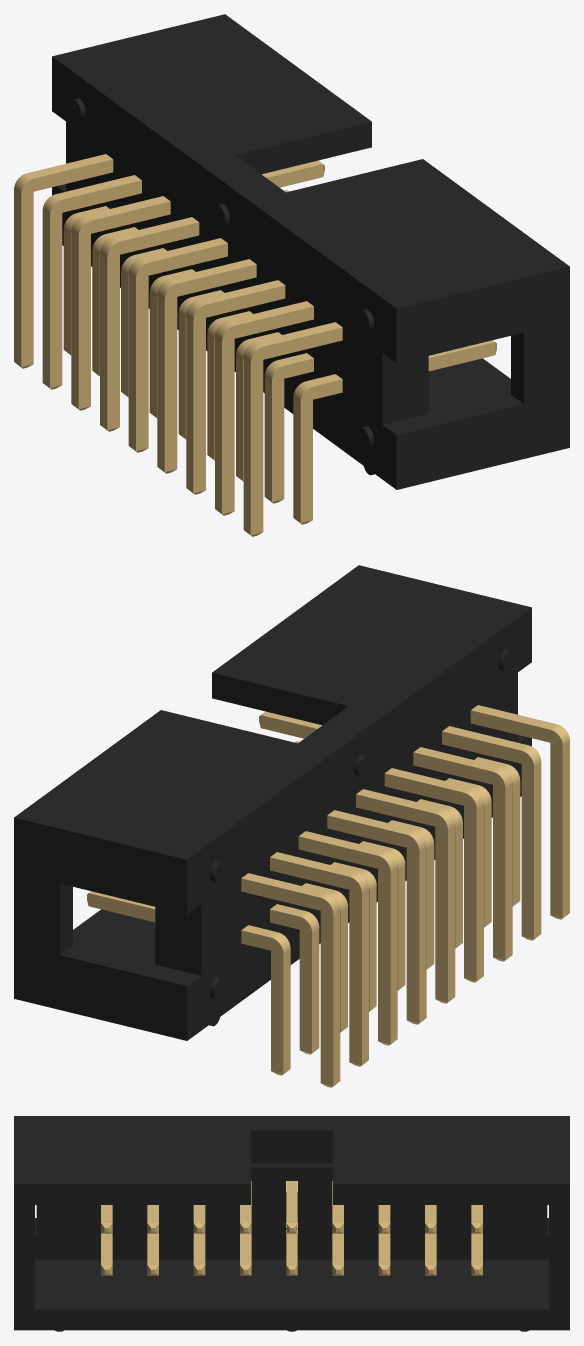
File: kc-idc-header_2x09_p2.54mm_horizontal.glb
The picture shows the model from 3 angles, top to bottom: view 1: azimuth 30°, elevation 25°; view 2: azimuth 150°, elevation 25°; view 3: azimuth 270°, elevation 25°; orthographic projection. The views are drawn at different scales.
Visible parts, largest first — view 1: 0_0_0_0, 0.75_0.5_0.25_0.9; view 2: 0_0_0_0, 0.75_0.5_0.25_0.9; view 3: 0_0_0_0, 0.75_0.5_0.25_0.9.
Boxes of the visible parts, x1,y1,x2,y2 form: 0_0_0_0: (52,14,569,489); 0.75_0.5_0.25_0.9: (14,154,496,536); 0_0_0_0: (14,565,531,1040); 0.75_0.5_0.25_0.9: (87,705,569,1087); 0_0_0_0: (14,1116,569,1331); 0.75_0.5_0.25_0.9: (101,1181,482,1275).
Bounding box in the file's own units: 1.35 × 1.21 × 3.05.
